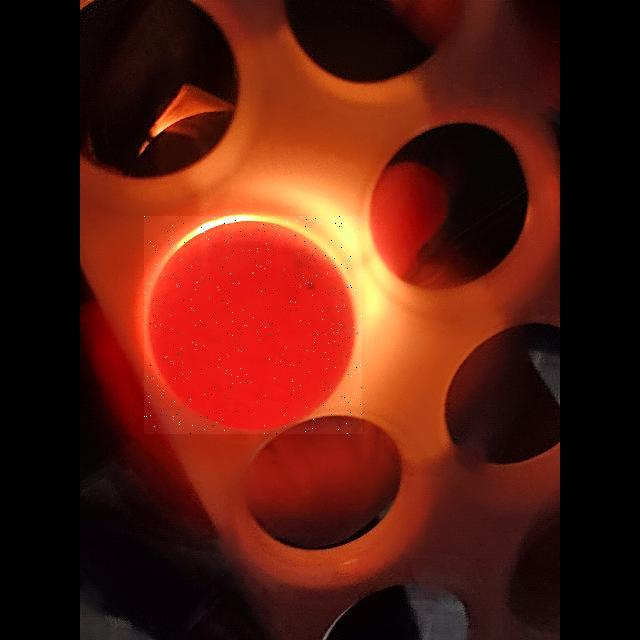A - Good: (144, 216, 362, 434)
